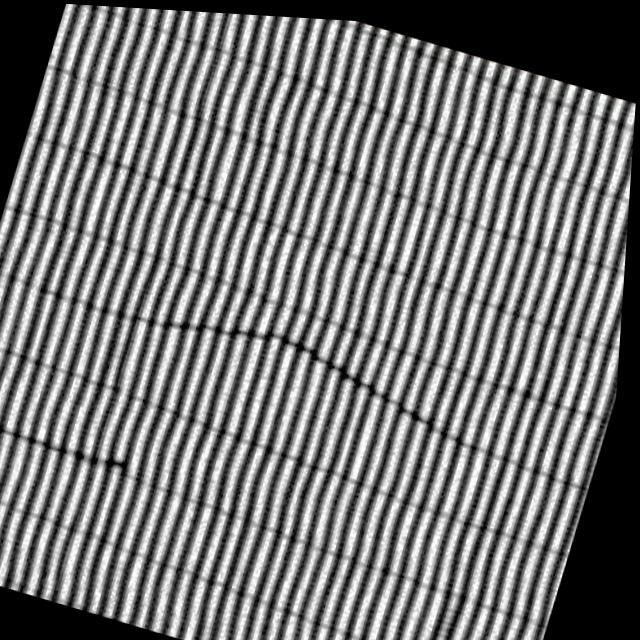Stitch: (148, 267, 501, 456)
